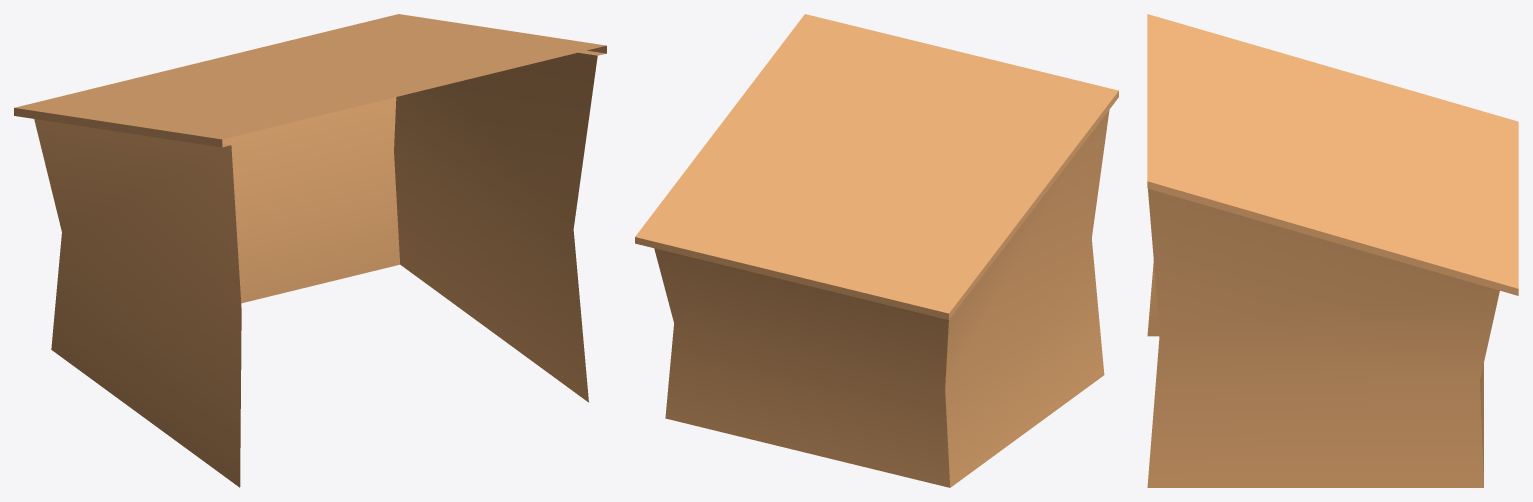
Rendered from villa_expansion_1.fbx.
3 renders of one model, left to right at view 1: azimuth 30°, elevation 25°; view 2: azimuth 150°, elevation 25°; view 3: azimuth 270°, elevation 25°, orthographic. The views are drawn at different scales.
Parts seen in each view (by area): view 1: villa_expansion_1; view 2: villa_expansion_1; view 3: villa_expansion_1.
Part boxes in pixels (box(x1,y1,x2,y2)): villa_expansion_1: box(14, 14, 606, 487); villa_expansion_1: box(635, 14, 1118, 487); villa_expansion_1: box(1147, 14, 1518, 487).
Size of the model in its own units: 4.41 by 3.87 by 4.13.
